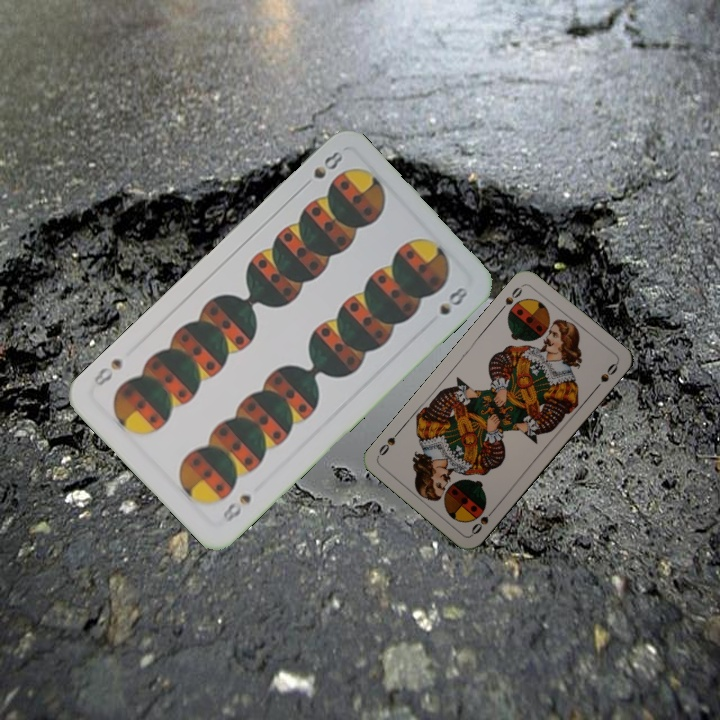S8: (309, 147, 346, 182), (219, 490, 254, 526)
SO: (467, 504, 498, 537), (496, 280, 526, 314)
